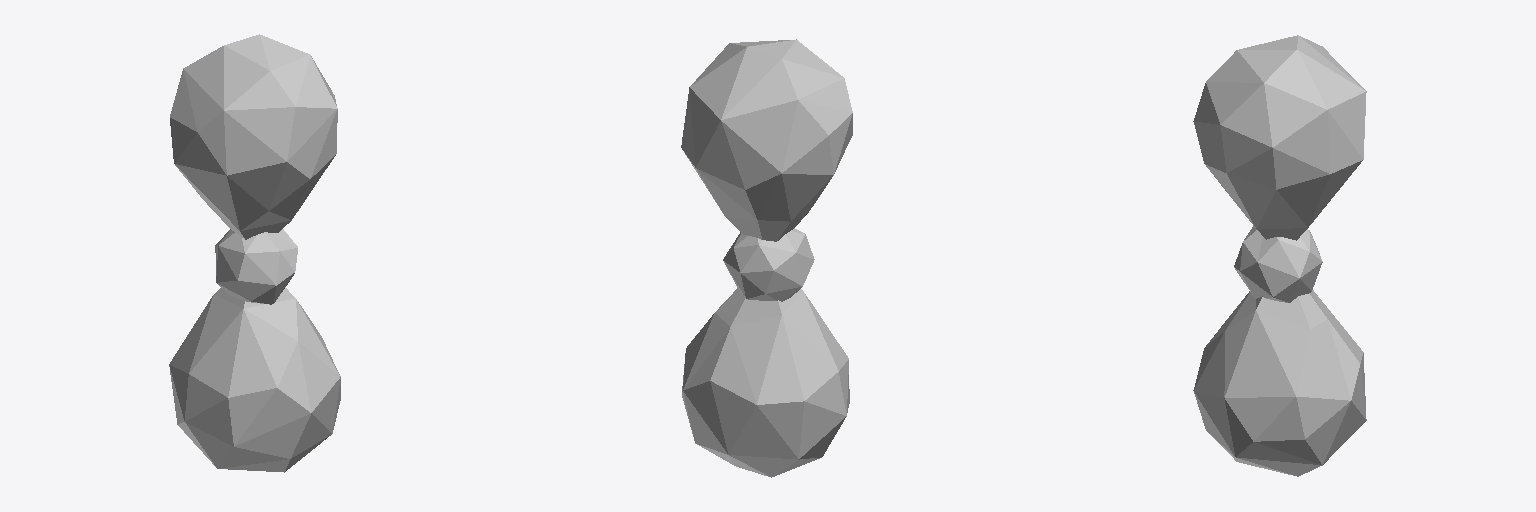
Rendered from whitebloodcell_2line.obj.
3 views of the same model, side by side, from view 1: azimuth 30°, elevation 25°; view 2: azimuth 150°, elevation 25°; view 3: azimuth 270°, elevation 25° (orthographic).
Parts seen in each view (by area): view 1: Sphere.000, Sphere.001, Sphere; view 2: Sphere.000, Sphere.001, Sphere; view 3: Sphere.000, Sphere.001, Sphere.
Part boxes in pixels (x1,y1,x2,y2): Sphere.000: (170,34,337,239); Sphere.001: (169,287,340,472); Sphere: (215,229,297,304); Sphere.000: (681,39,852,241); Sphere.001: (682,288,849,477); Sphere: (723,228,814,301); Sphere.000: (1193,35,1366,240); Sphere.001: (1193,290,1366,476); Sphere: (1234,226,1322,302).
Size of the model in its own units: 2 by 5.42 by 2.